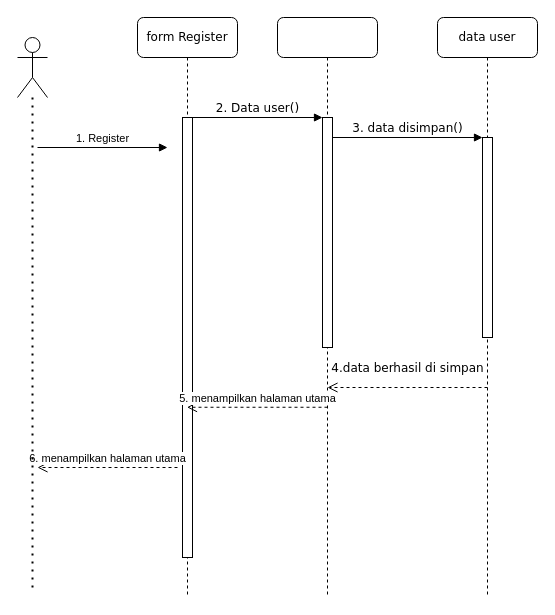
This 555x615 diagram has some shape labels left out. Here are the shapes that lost their labels. From the top down, the box of each, then its label:
(16, 36, 48, 98): Actor
(276, 16, 378, 598): kontrol data
